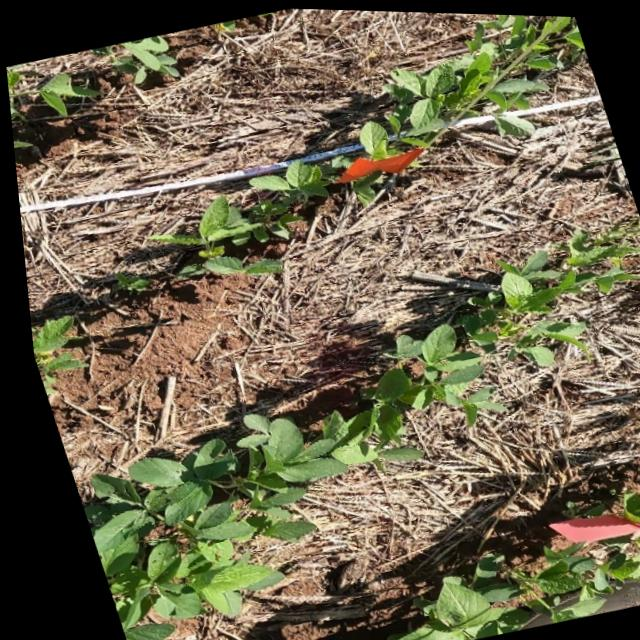soy_plant: (73, 226, 624, 640), (375, 488, 640, 640), (383, 12, 584, 141), (147, 156, 341, 277), (5, 62, 95, 116), (88, 33, 176, 81), (25, 315, 75, 391), (356, 118, 396, 156), (109, 270, 145, 289)
